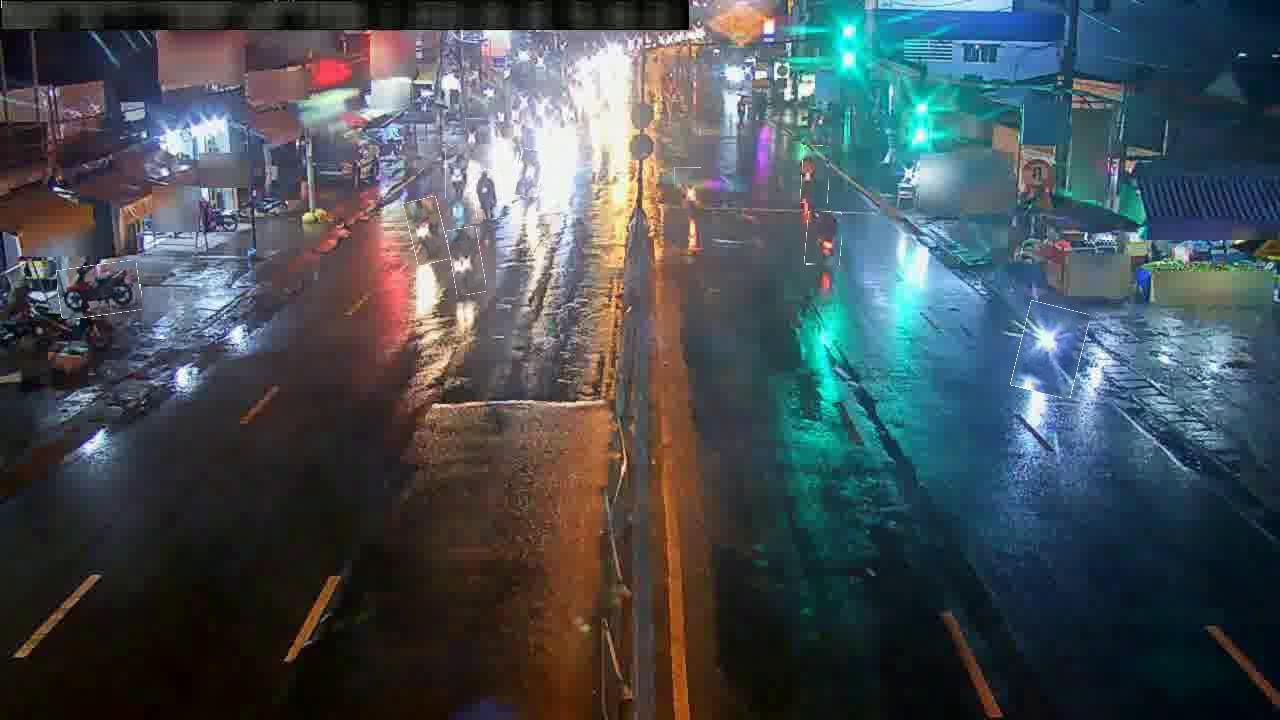motorbike: (1015, 303, 1086, 396), (58, 262, 142, 318), (407, 198, 447, 264), (449, 227, 485, 295), (805, 212, 842, 266), (801, 146, 830, 204), (472, 169, 504, 220), (674, 167, 702, 218), (516, 149, 544, 198), (445, 151, 470, 199), (465, 118, 481, 151)
